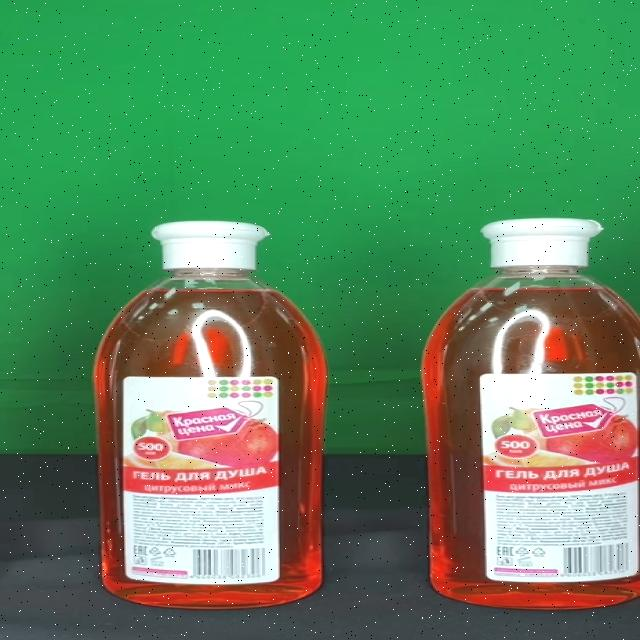Bottle: (93, 221, 325, 609), (422, 218, 640, 609)
Cap: (481, 218, 604, 268), (151, 222, 272, 270)
